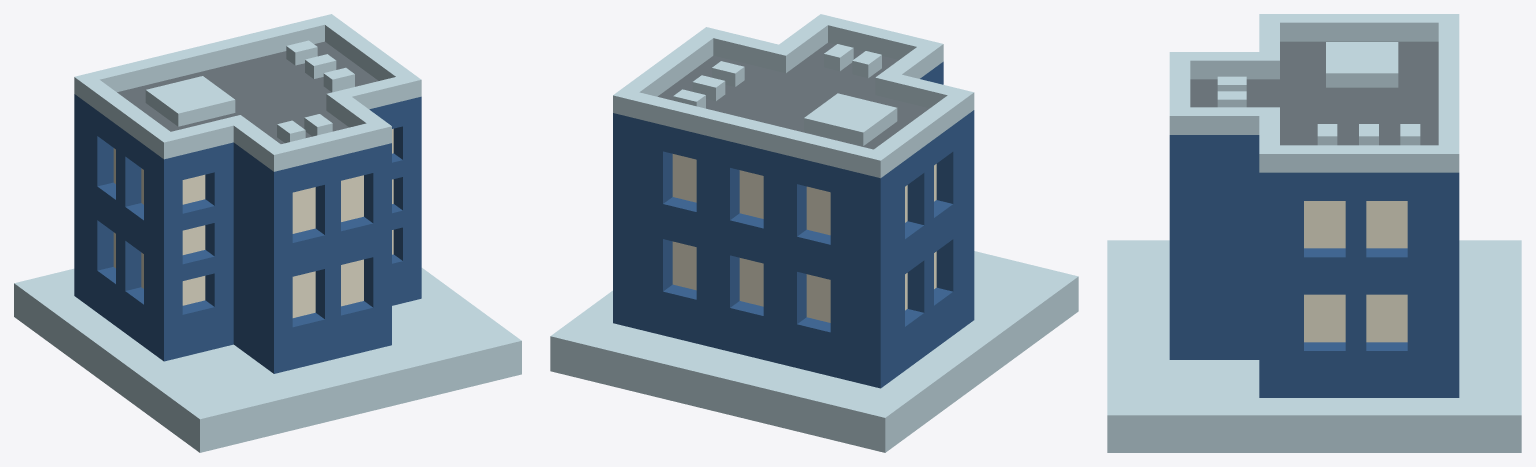
File: Building_12_Base_Extra (Blue).obj
3 views of the same model, side by side, from view 1: azimuth 30°, elevation 25°; view 2: azimuth 150°, elevation 25°; view 3: azimuth 270°, elevation 25° (orthographic). The views are drawn at different scales.
Visible parts, largest first — view 1: Building_12_Base_Extra_(Blue); view 2: Building_12_Base_Extra_(Blue); view 3: Building_12_Base_Extra_(Blue).
Boxes of the visible parts, x1,y1,x2,y2 form: Building_12_Base_Extra_(Blue): (14,14,521,452); Building_12_Base_Extra_(Blue): (550,14,1078,452); Building_12_Base_Extra_(Blue): (1107,14,1521,452).
Bounding box in the file's own units: 2 × 1.5 × 2.
